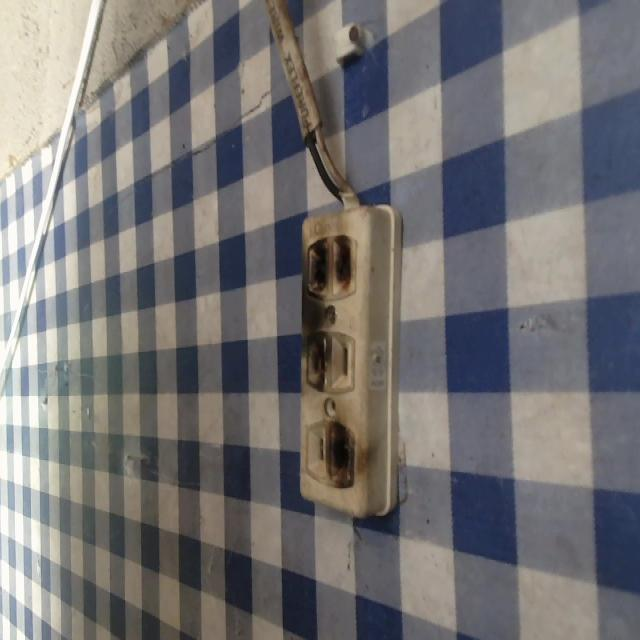-: (299, 231, 372, 312), (322, 413, 364, 491), (303, 329, 333, 396)
